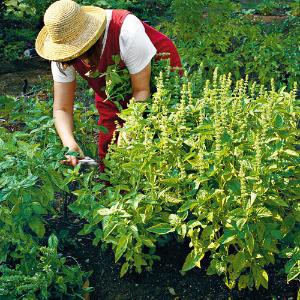person: (37, 4, 187, 190)
